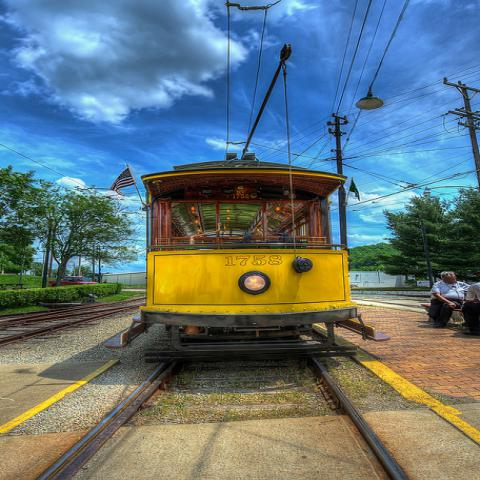car: (48, 275, 100, 287)
